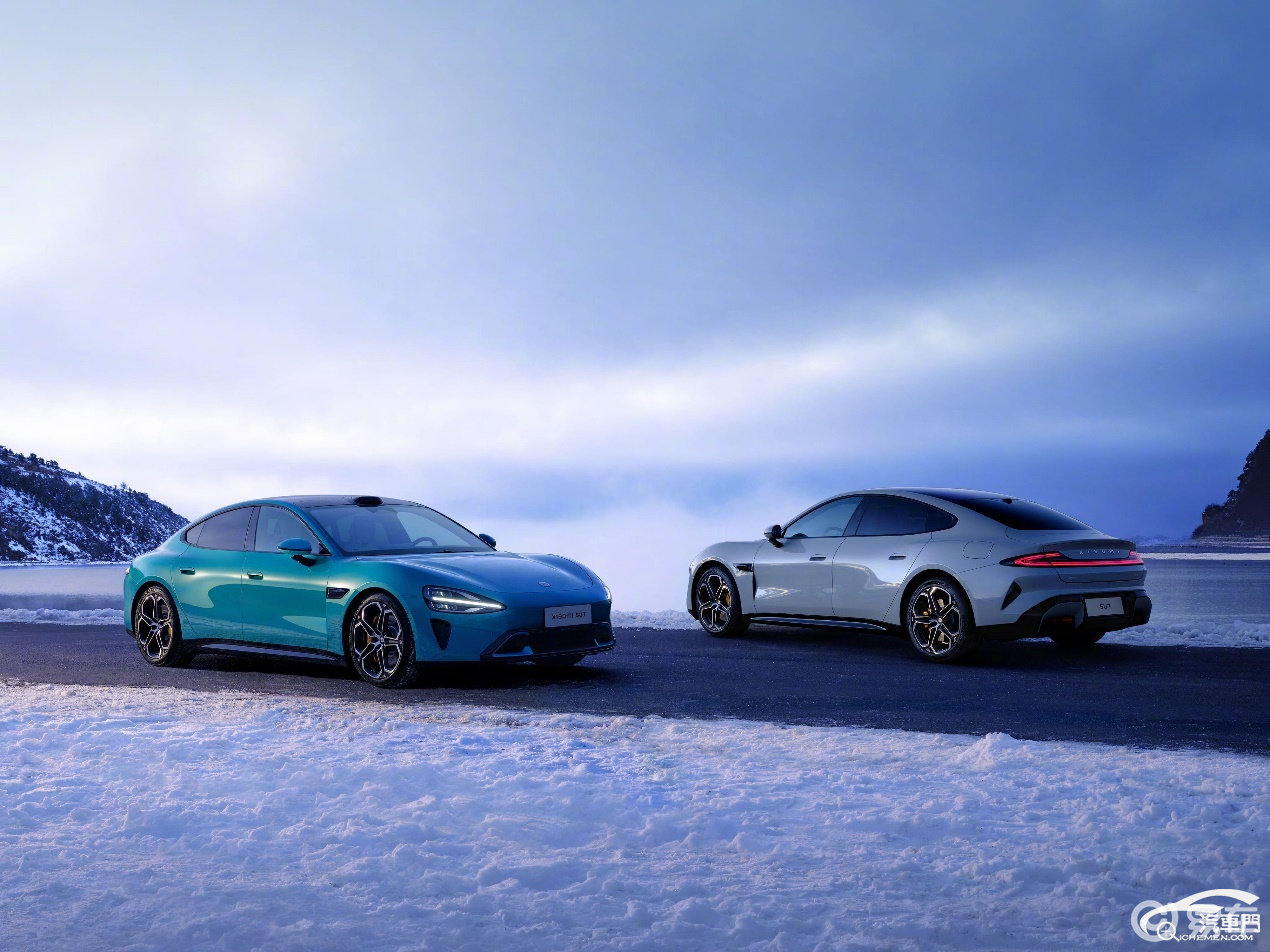su7: (103, 487, 615, 685), (672, 470, 1160, 658)
